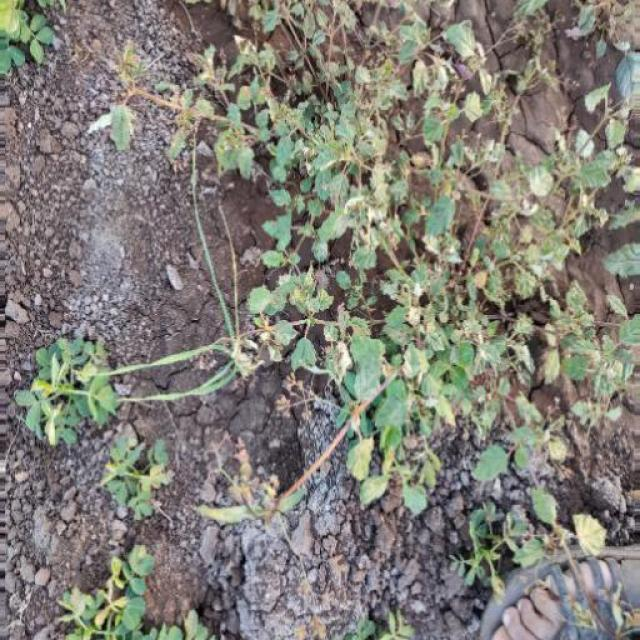weed: (191, 26, 640, 482)
